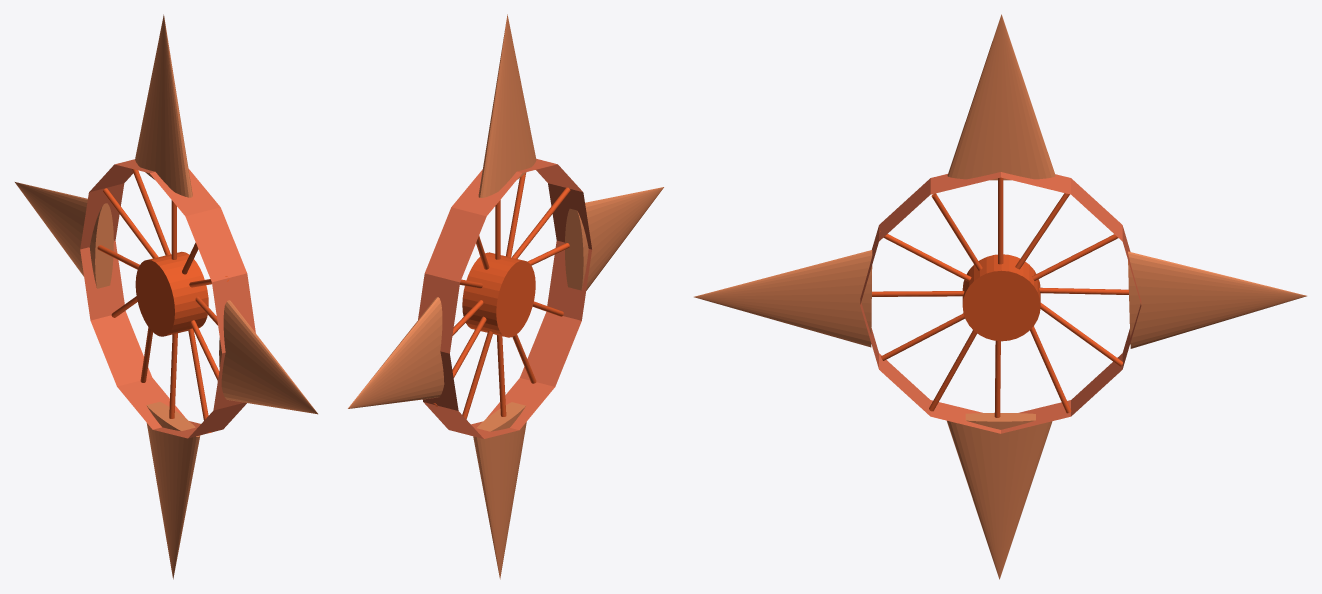
File: obstacle2.fbx
3 views of the same model, side by side, from view 1: azimuth 30°, elevation 25°; view 2: azimuth 150°, elevation 25°; view 3: azimuth 270°, elevation 25° (orthographic).
Parts seen in each view (by area): view 1: Circle, Cone.003, Cone, Cylinder, Cone.001, Cone.002, Cylinder.010, Cylinder.004, Cylinder.009, Cylinder.006; view 2: Circle, Cone.002, Cone, Cone.003, Cylinder, Cone.001, Cylinder.012, Cylinder.003, Cylinder.002, Cylinder.009; view 3: Cone, Cone.002, Cone.003, Cone.001, Circle, Cylinder.
Part boxes in pixels (x1=…): Circle: x1=80, y1=159, x2=255, y2=438; Cone.003: x1=219, y1=300, x2=317, y2=414; Cone: x1=135, y1=14, x2=192, y2=197; Cylinder: x1=135, y1=251, x2=208, y2=336; Cone.001: x1=146, y1=402, x2=200, y2=579; Cone.002: x1=15, y1=182, x2=113, y2=288; Cylinder.010: x1=188, y1=328, x2=211, y2=433; Cylinder.004: x1=132, y1=169, x2=170, y2=255; Cylinder.009: x1=169, y1=333, x2=177, y2=418; Cylinder.006: x1=103, y1=188, x2=158, y2=258; Circle: x1=418, y1=159, x2=591, y2=438; Cone.002: x1=348, y1=297, x2=444, y2=408; Cone: x1=478, y1=14, x2=536, y2=197; Cone.003: x1=565, y1=187, x2=663, y2=290; Cylinder: x1=462, y1=252, x2=535, y2=337; Cone.001: x1=473, y1=402, x2=526, y2=579; Cylinder.012: x1=462, y1=331, x2=493, y2=419; Cylinder.003: x1=512, y1=187, x2=570, y2=258; Cylinder.002: x1=506, y1=173, x2=525, y2=257; Cylinder.009: x1=497, y1=335, x2=506, y2=416; Cone: x1=947, y1=14, x2=1055, y2=180; Cone.002: x1=1128, y1=251, x2=1306, y2=348; Cone.003: x1=694, y1=250, x2=872, y2=347; Cone.001: x1=947, y1=413, x2=1052, y2=579; Circle: x1=860, y1=172, x2=1141, y2=433; Cylinder: x1=962, y1=254, x2=1040, y2=341.
Bounding box in the file's own units: 32.66 × 441 × 437.
